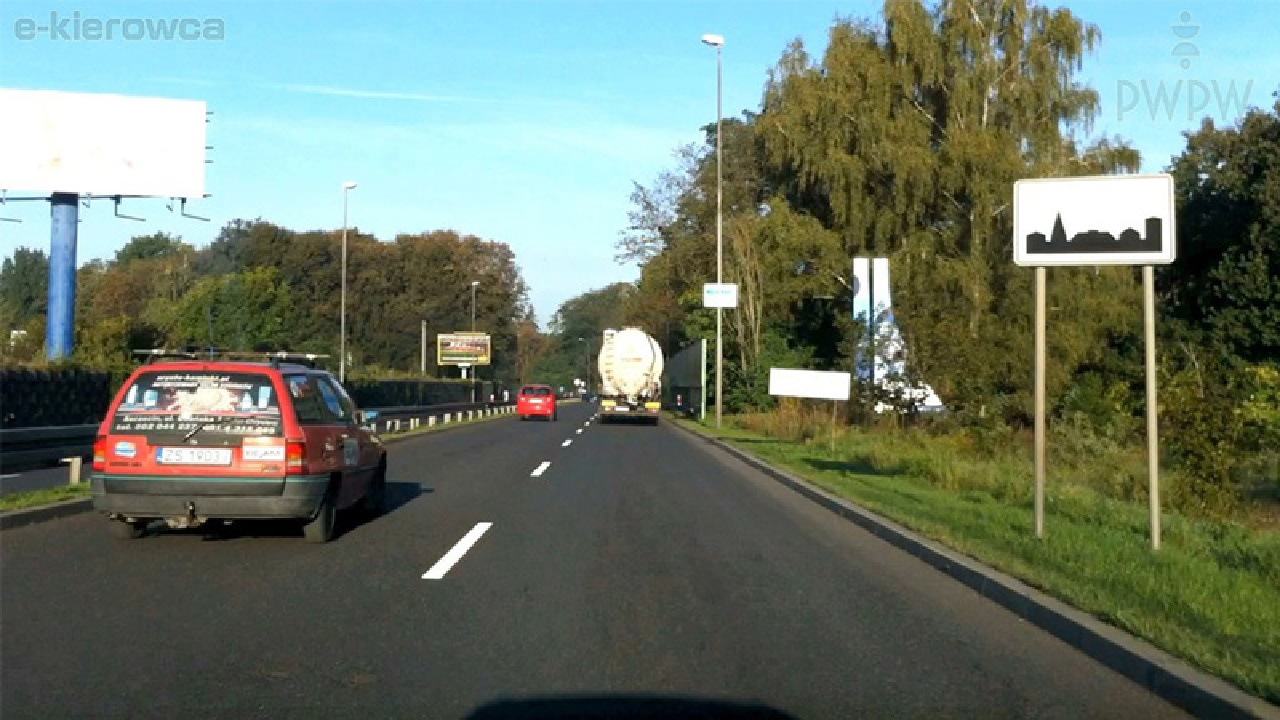D42: (1004, 174, 1180, 266)
